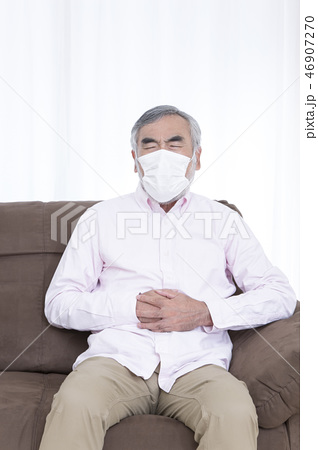mask: (133, 151, 191, 201)
